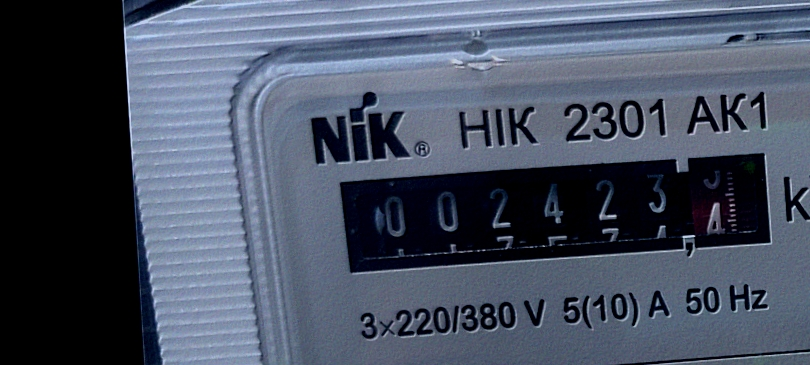0: (381, 191, 411, 241), (435, 188, 462, 234)
2: (486, 184, 515, 231), (593, 177, 620, 223)
3: (644, 170, 670, 216), (702, 167, 724, 191)
4: (541, 180, 566, 227), (702, 198, 729, 237)
screen: (329, 141, 786, 286)
